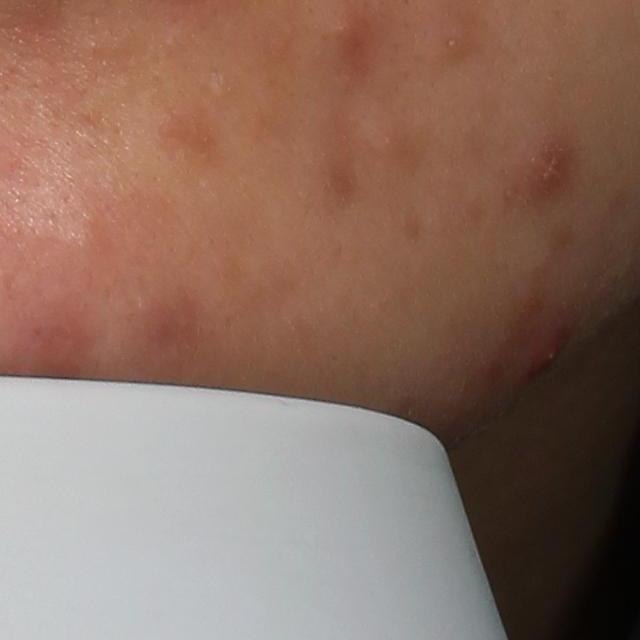papule: (415, 4, 490, 68), (522, 136, 577, 208), (319, 6, 369, 66), (522, 326, 564, 375)
